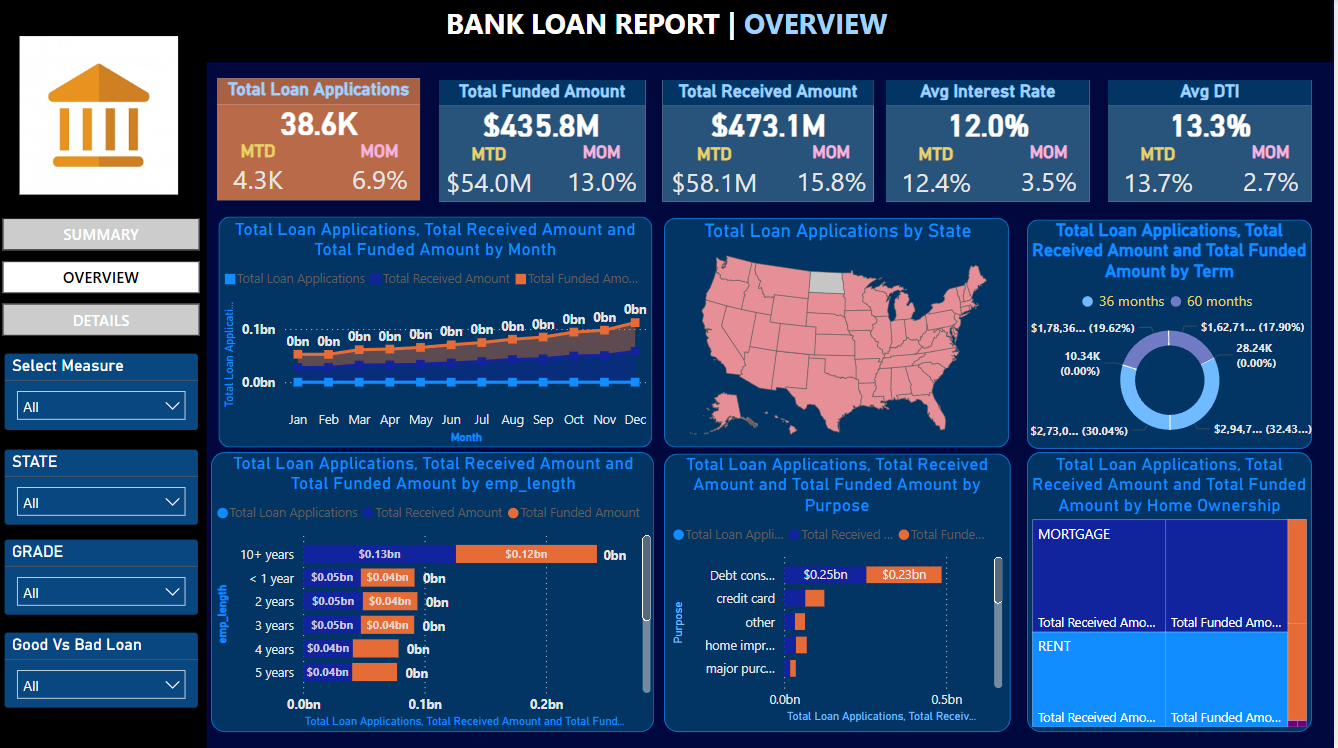

Layout of this report page (visuals, bound fields, positions):
{"tool":"powerbi","page":{"name":"OVERVIEW","canvas":[1280,720],"ordinal":1},"visuals":[{"type":"shape","box":[0,0,1279.4,60.5],"z":0},{"type":"shape","title":"Total Loan Applications","box":[210.5,75.7,195,116.6],"z":0,"group":"g1"},{"type":"shape","title":"Total Funded Amount","box":[422.7,77.2,198,116.6],"z":0,"group":"g2"},{"type":"shape","title":"Total Received Amount","box":[637.4,77.2,202.5,116.6],"z":0,"group":"g3"},{"type":"shape","title":"Avg Interest Rate","box":[852,77.2,195.3,116.6],"z":0,"group":"g4"},{"type":"shape","title":"Avg DTI","box":[1064.4,77.2,195.3,116.6],"z":0,"group":"g5"},{"type":"shape","box":[0,60.5,200,659.5],"z":1000},{"type":"card","fields":{"Values":["banking_project bank_loan_data.Total Loan Applications"]},"box":[210.5,98.4,195,36.3],"z":1000,"group":"g1"},{"type":"card","fields":{"Values":["banking_project bank_loan_data.Total Funded Amount"]},"box":[422.7,99.9,195.3,36.3],"z":1000,"group":"g2"},{"type":"card","fields":{"Values":["banking_project bank_loan_data.Total Received Amount"]},"box":[637.4,99.9,202.5,36.3],"z":1000,"group":"g3"},{"type":"card","fields":{"Values":["banking_project bank_loan_data.AVG Interest Rate"]},"box":[852,99.9,195.3,36.3],"z":1000,"group":"g4"},{"type":"card","fields":{"Values":["banking_project bank_loan_data.AVG DTI"]},"box":[1064.4,99.9,195.3,36.3],"z":1000,"group":"g5"},{"type":"textbox","box":[417.9,0,445.2,60.6],"z":2000},{"type":"card","title":"MTD","fields":{"Values":["banking_project bank_loan_data.MTD Loan Applications"]},"box":[210.5,134.8,78.6,57.5],"z":2000,"group":"g1"},{"type":"card","title":"MTD","fields":{"Values":["banking_project bank_loan_data.MTD Funded Amount"]},"box":[421.3,138.2,98.4,57.5],"z":2000,"group":"g2"},{"type":"card","title":"MTD","fields":{"Values":["banking_project bank_loan_data.MTD Total Received Amount"]},"box":[636,138.2,102,57.5],"z":2000,"group":"g3"},{"type":"card","title":"MTD","fields":{"Values":["banking_project bank_loan_data.MTD AVG Interest Rate"]},"box":[850.6,138.2,98.4,57.5],"z":2000,"group":"g4"},{"type":"card","title":"MTD","fields":{"Values":["banking_project bank_loan_data.MTD Avg DTI"]},"box":[1063,138.2,98.4,57.5],"z":2000,"group":"g5"},{"type":"group","id":"g1","title":"Group 1","box":[210.5,75.7,195.3,116.6],"z":3000},{"type":"card","title":"MOM","fields":{"Values":["banking_project bank_loan_data.MOM Loan Application"]},"box":[326.9,134.8,78.6,57.5],"z":3000,"group":"g1"},{"type":"card","title":"MOM","fields":{"Values":["banking_project bank_loan_data.MOM Total Funded Amount"]},"box":[539.3,136.3,78.7,57.5],"z":3000,"group":"g2"},{"type":"card","title":"MOM","fields":{"Values":["banking_project bank_loan_data.MOM Total Received Amount"]},"box":[758.3,136.3,81.6,57.5],"z":3000,"group":"g3"},{"type":"card","title":"MOM","fields":{"Values":["banking_project bank_loan_data.MOM Avg Interest Rate"]},"box":[968.6,136.3,78.7,57.5],"z":3000,"group":"g4"},{"type":"card","title":"MOM","fields":{"Values":["banking_project bank_loan_data.MOM Avg DTI"]},"box":[1181,136.3,78.7,57.5],"z":3000,"group":"g5"},{"type":"group","id":"g2","title":"Group 1","box":[421.3,77.2,199.9,118.1],"z":4000},{"type":"group","id":"g3","title":"Group 1","box":[636,77.2,204.4,118.1],"z":5000},{"type":"group","id":"g4","title":"Group 1","box":[850.6,77.2,196.8,118.1],"z":6000},{"type":"group","id":"g5","title":"Group 1","box":[1063,77.2,196.8,118.1],"z":7000},{"type":"textbox","box":[263.5,207.4,174.1,36.3],"z":8000},{"type":"shape","box":[211,207.9,415.9,221.6],"z":8000,"group":"g6"},{"type":"shape","box":[639.1,210.3,330.9,220],"z":8000,"group":"g7"},{"type":"shape","box":[986.9,211,273.2,220],"z":8000,"group":"g8"},{"type":"shape","box":[987.2,434.7,273.2,268.6],"z":8000,"group":"g11"},{"type":"shape","box":[204.9,434.8,425,268.6],"z":8000,"group":"g9"},{"type":"shape","box":[639,435.6,332.4,267.1],"z":8000,"group":"g10"},{"type":"group","id":"g6","title":"Group 2","box":[211,207.9,415.9,221.6],"z":9000},{"type":"slicer","title":"STATE","fields":{"Values":["banking_project bank_loan_data.address_state"]},"box":[4.5,430,189.3,75.7],"z":10000},{"type":"slicer","title":"GRADE","fields":{"Values":["banking_project bank_loan_data.grade"]},"box":[4.5,516.3,189.3,75.7],"z":11000},{"type":"slicer","title":"Good Vs Bad Loan","fields":{"Values":["banking_project bank_loan_data.Good Vs Bad Loans"]},"box":[4.5,605.7,189.3,75.7],"z":12000},{"type":"slicer","title":"Select Measure","fields":{"Values":["New Measure.New Measure"]},"box":[4.5,337.7,189.3,77.2],"z":13000},{"type":"stackedAreaChart","fields":{"Y":["banking_project bank_loan_data.Total Loan Applications","banking_project bank_loan_data.Total Received Amount","banking_project bank_loan_data.Total Funded Amount"],"Category":["Date Table.Month"]},"box":[211,209.5,415.9,220.1],"z":14000},{"type":"group","id":"g7","title":"Group 2","box":[639.1,210.3,330.9,220],"z":15000},{"type":"shapeMap","title":"Total Loan Applications by State","fields":{"Value":["banking_project bank_loan_data.Total Loan Applications"],"Category":["banking_project bank_loan_data.address_state"]},"box":[642,211,327.8,220.1],"z":16000},{"type":"barChart","fields":{"Y":["banking_project bank_loan_data.Total Loan Applications","banking_project bank_loan_data.Total Received Amount","banking_project bank_loan_data.Total Funded Amount"],"Category":["banking_project bank_loan_data.emp_length"]},"box":[204.9,434.1,426.5,268.6],"z":16004,"group":"g9"},{"type":"group","id":"g8","title":"Group 2","box":[986.9,211,273.2,220],"z":17000},{"type":"donutChart","fields":{"Y":["banking_project bank_loan_data.Total Loan Applications","banking_project bank_loan_data.Total Received Amount","banking_project bank_loan_data.Total Funded Amount"],"Category":["banking_project bank_loan_data.term"]},"box":[986.6,211,273.2,220.1],"z":18000},{"type":"group","id":"g9","title":"Group 2","box":[204.9,434.1,426.5,270.2],"z":19000},{"type":"group","id":"g10","title":"Group 2","box":[639,435.6,332.4,267.1],"z":20000},{"type":"barChart","fields":{"Y":["banking_project bank_loan_data.Total Loan Applications","banking_project bank_loan_data.Total Received Amount","banking_project bank_loan_data.Total Funded Amount"],"Category":["banking_project bank_loan_data.purpose"]},"box":[642,435.6,326.3,262.6],"z":21000},{"type":"group","id":"g11","title":"Group 2","box":[987.2,434.7,273.2,268.6],"z":22000},{"type":"treemap","fields":{"Values":["banking_project bank_loan_data.Total Loan Applications","banking_project bank_loan_data.Total Received Amount","banking_project bank_loan_data.Total Funded Amount"],"Group":["banking_project bank_loan_data.home_ownership"]},"box":[986.6,435.6,273.2,267.1],"z":23000},{"type":"pageNavigator","box":[4.5,210.5,189.3,115.1],"z":23001},{"type":"image","box":[0,30.3,193.8,162],"z":23002}]}

Visuals, with their boxes in screenshot pixels (x1, y1, x2, y2), scaled from the page's 1280x720 canvas onto the 1338x748 screenshot:
shape: [0,0,1337,63]
"Total Loan Applications" shape: [220,79,424,200]
"Total Funded Amount" shape: [442,80,649,201]
"Total Received Amount" shape: [666,80,878,201]
"Avg Interest Rate" shape: [891,80,1095,201]
"Avg DTI" shape: [1113,80,1317,201]
shape: [0,63,209,747]
card - banking_project bank_loan_data.Total Loan Applications: [220,102,424,140]
card - banking_project bank_loan_data.Total Funded Amount: [442,104,646,141]
card - banking_project bank_loan_data.Total Received Amount: [666,104,878,141]
card - banking_project bank_loan_data.AVG Interest Rate: [891,104,1095,141]
card - banking_project bank_loan_data.AVG DTI: [1113,104,1317,141]
textbox: [437,0,902,63]
"MTD" card: [220,140,302,200]
"MTD" card: [440,144,543,203]
"MTD" card: [665,144,771,203]
"MTD" card: [889,144,992,203]
"MTD" card: [1111,144,1214,203]
"Group 1" group: [220,79,424,200]
"MOM" card: [342,140,424,200]
"MOM" card: [564,142,646,201]
"MOM" card: [793,142,878,201]
"MOM" card: [1012,142,1095,201]
"MOM" card: [1235,142,1317,201]
"Group 1" group: [440,80,649,203]
"Group 1" group: [665,80,878,203]
"Group 1" group: [889,80,1095,203]
"Group 1" group: [1111,80,1317,203]
textbox: [275,215,457,253]
shape: [221,216,655,446]
shape: [668,218,1014,447]
shape: [1032,219,1317,448]
shape: [1032,452,1318,731]
shape: [214,452,658,731]
shape: [668,453,1015,730]
"Group 2" group: [221,216,655,446]
"STATE" slicer: [5,447,203,525]
"GRADE" slicer: [5,536,203,615]
"Good Vs Bad Loan" slicer: [5,629,203,708]
"Select Measure" slicer: [5,351,203,431]
stackedAreaChart - banking_project bank_loan_data.Total Loan Applications x banking_project bank_loan_data.Total Received Amount: [221,218,655,446]
"Group 2" group: [668,218,1014,447]
"Total Loan Applications by State" shapeMap: [671,219,1014,448]
barChart - banking_project bank_loan_data.Total Loan Applications x banking_project bank_loan_data.Total Received Amount: [214,451,660,730]
"Group 2" group: [1032,219,1317,448]
donutChart - banking_project bank_loan_data.Total Loan Applications x banking_project bank_loan_data.Total Received Amount: [1031,219,1317,448]
"Group 2" group: [214,451,660,732]
"Group 2" group: [668,453,1015,730]
barChart - banking_project bank_loan_data.Total Loan Applications x banking_project bank_loan_data.Total Received Amount: [671,453,1012,725]
"Group 2" group: [1032,452,1318,731]
treemap - banking_project bank_loan_data.Total Loan Applications x banking_project bank_loan_data.Total Received Amount: [1031,453,1317,730]
pageNavigator: [5,219,203,338]
image: [0,31,203,200]
